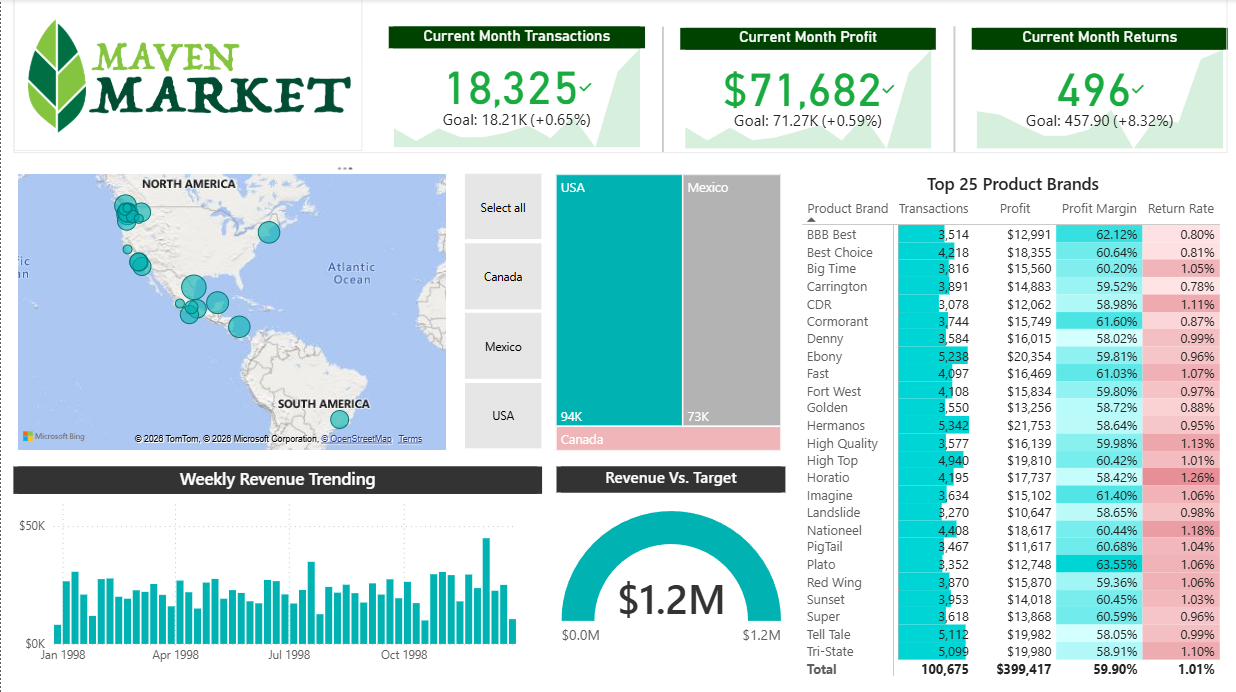

What the dashboard file says about the page in this screenshot:
{"tool":"powerbi","page":{"name":"Topline Performance","canvas":[1280,720],"ordinal":0},"visuals":[{"type":"image","box":[12.6,0,361.7,158],"z":0,"group":"g1"},{"type":"pivotTable","title":"Top 25 Product Brands","fields":{"Values":["Measures Table.Total Transactions","Measures Table.Total Profit","Measures Table.Profit Margin","Measures Table.Return Rate"],"Rows":["Products.product_brand"]},"box":[824,173.2,446.9,537.7],"z":0},{"type":"map","fields":{"Category":["Stores.City"],"Size":["Measures Table.Total Transactions"]},"box":[12.6,175.8,453.4,296.3],"z":0,"group":"g2"},{"type":"group","id":"g1","title":"Header","box":[12.6,0,1258.4,159.2],"z":1000},{"type":"kpi","title":"Current Month Transactions","fields":{"Indicator":["Measures Table.Total Transactions"],"TrendLine":["Calendar.Start of Month"],"Goal":["Measures Table.Transactions Target"]},"box":[400.9,29.2,265.4,130],"z":1000,"group":"g1"},{"type":"slicer","fields":{"Values":["Stores.Country"]},"box":[454.3,173.2,129.5,298.9],"z":1000,"group":"g2"},{"type":"kpi","title":"Current Month Profit","fields":{"TrendLine":["Calendar.Start of Month"],"Indicator":["Measures Table.Total Profit"],"Goal":["Measures Table.Profit Target"]},"box":[703.4,29.6,265,130],"z":2000,"group":"g1"},{"type":"group","id":"g2","title":"Map","box":[12.6,173.2,571.2,298.9],"z":2000},{"type":"kpi","title":"Current Month Returns","fields":{"TrendLine":["Calendar.Start of Month"],"Indicator":["Measures Table.Total Returns"],"Goal":["Measures Table.Returns Target"]},"box":[1005.6,29.6,265.4,130],"z":3000,"group":"g1"},{"type":"treemap","fields":{"Group":["Stores.Country","Stores.State","Stores.City"],"Values":["Measures Table.Total Transactions"]},"box":[569.8,176,243,296.1],"z":3000},{"type":"shape","box":[678.8,28,12.6,130],"z":4000,"group":"g1"},{"type":"gauge","title":"Revenue Vs. Target","fields":{"Y":["Measures Table.Total Revenue"],"MaxValue":["Measures Table.Revenue Target"]},"box":[575.4,484.6,237.4,213.7],"z":4000},{"type":"shape","box":[980.5,28,12.6,130],"z":5000,"group":"g1"},{"type":"columnChart","title":"Weekly Revenue Trending","fields":{"Category":["Calendar.Start of Week"],"Y":["Measures Table.Total Revenue"]},"box":[12.6,484.6,547.5,213.7],"z":5000}]}

Visuals, with their boxes in screenshot pixels (x1, y1, x2, y2), scaled from the page's 1280x720 canvas onto the 1236x692 screenshot:
image: left=12, top=0, right=361, bottom=152
"Top 25 Product Brands" pivotTable: left=796, top=166, right=1227, bottom=683
map - Stores.City x Measures Table.Total Transactions: left=12, top=169, right=450, bottom=454
"Header" group: left=12, top=0, right=1227, bottom=153
"Current Month Transactions" kpi: left=387, top=28, right=643, bottom=153
slicer - Stores.Country: left=439, top=166, right=564, bottom=454
"Current Month Profit" kpi: left=679, top=28, right=935, bottom=153
"Map" group: left=12, top=166, right=564, bottom=454
"Current Month Returns" kpi: left=971, top=28, right=1227, bottom=153
treemap - Stores.Country x Stores.State: left=550, top=169, right=785, bottom=454
shape: left=655, top=27, right=668, bottom=152
"Revenue Vs. Target" gauge: left=556, top=466, right=785, bottom=671
shape: left=947, top=27, right=959, bottom=152
"Weekly Revenue Trending" columnChart: left=12, top=466, right=541, bottom=671
